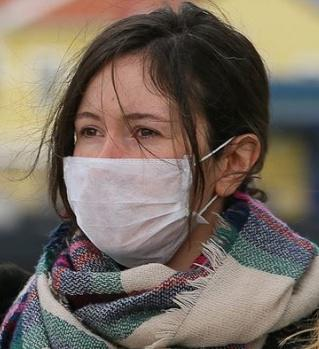OK: (68, 96, 206, 269)
